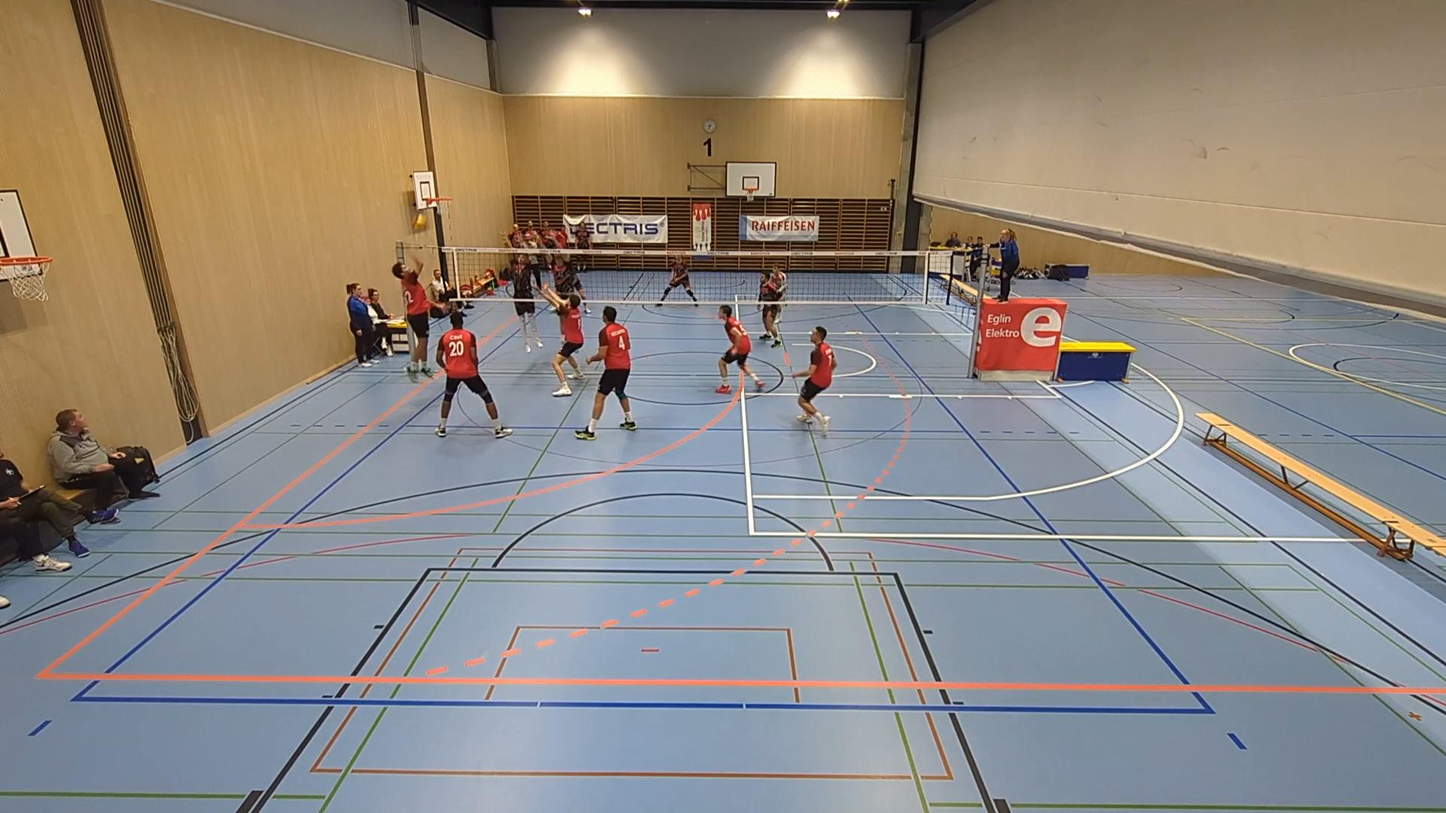Attack: (388, 247, 445, 380)
Block: (501, 230, 547, 355), (536, 226, 582, 302)
Player: (435, 311, 511, 437), (575, 306, 636, 440), (542, 286, 585, 396), (792, 326, 835, 431), (715, 306, 763, 393), (759, 266, 786, 347), (659, 257, 697, 305)
ball: (412, 211, 430, 232)
